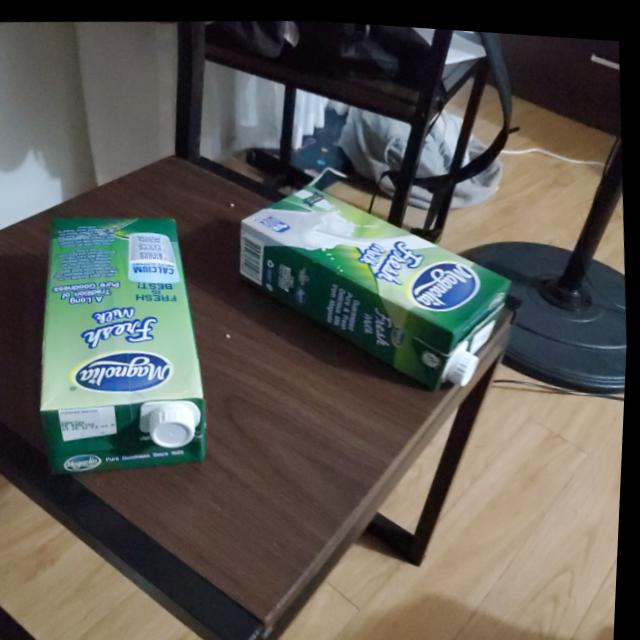milk: (231, 160, 528, 401), (24, 198, 227, 484)
